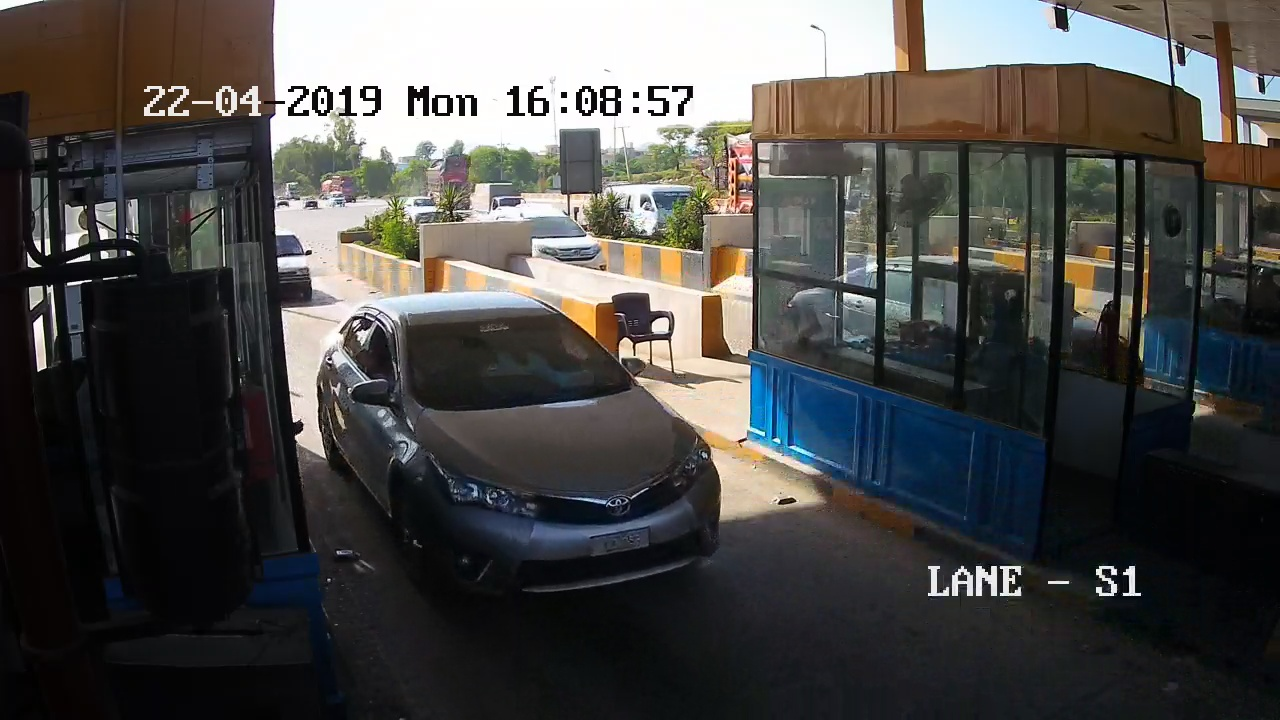Number Plate (Car): (590, 531, 653, 552)
